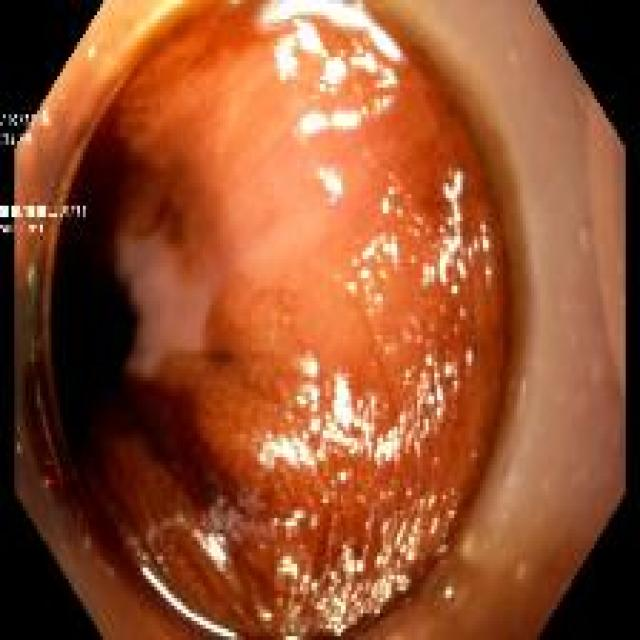color misalignment: (1, 204, 86, 218), (1, 115, 48, 128), (2, 133, 31, 146), (22, 224, 44, 236), (1, 224, 17, 236)
contrast: (47, 175, 135, 450)
specularity: (315, 491, 457, 640), (260, 2, 402, 60), (376, 356, 447, 463), (143, 570, 236, 640), (334, 377, 375, 461), (275, 21, 328, 83), (438, 173, 463, 285), (260, 440, 316, 469), (322, 417, 359, 457), (193, 535, 227, 572), (362, 237, 398, 265), (319, 57, 346, 85), (317, 170, 342, 197), (351, 48, 377, 71), (297, 387, 319, 414), (300, 115, 326, 135), (333, 113, 360, 130), (281, 557, 298, 581), (376, 70, 397, 89), (302, 362, 319, 381), (422, 265, 435, 287), (285, 514, 304, 529), (375, 99, 393, 110), (481, 224, 488, 251), (445, 364, 457, 377), (431, 520, 439, 539), (311, 420, 321, 434), (459, 261, 466, 279), (303, 575, 311, 587), (383, 200, 390, 213), (87, 47, 96, 57), (338, 475, 347, 485), (360, 271, 370, 279), (261, 615, 272, 622), (348, 286, 357, 294), (317, 454, 325, 463), (444, 591, 453, 599), (452, 381, 460, 390), (311, 518, 317, 529), (467, 352, 472, 365), (361, 109, 369, 117), (451, 286, 459, 294), (311, 584, 319, 592), (357, 402, 364, 411), (351, 259, 358, 267), (379, 273, 387, 280), (468, 249, 473, 259), (331, 87, 337, 95), (376, 297, 382, 305), (319, 86, 326, 92), (406, 492, 412, 499), (474, 242, 478, 251), (303, 435, 309, 441), (322, 500, 329, 505), (158, 558, 163, 565), (486, 271, 490, 279), (389, 189, 394, 195), (449, 514, 455, 518)
